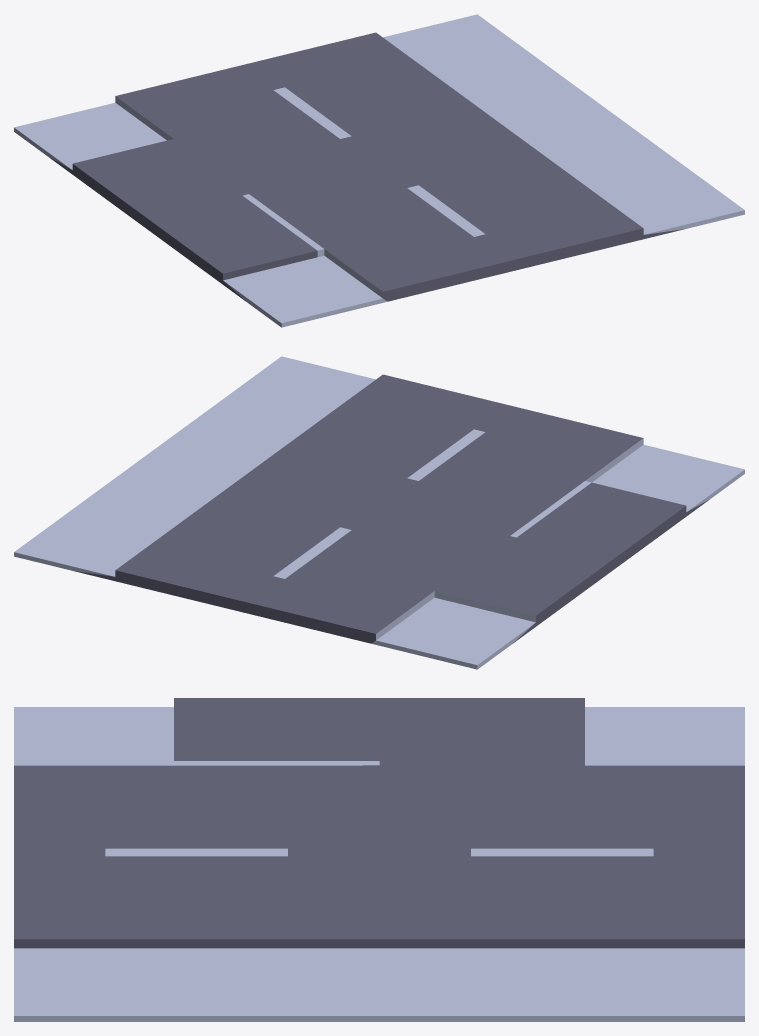
The model's file is road1.glb.
The picture shows the model from 3 angles, top to bottom: view 1: azimuth 30°, elevation 25°; view 2: azimuth 150°, elevation 25°; view 3: azimuth 270°, elevation 25°; orthographic projection. The views are drawn at different scales.
Visible parts, largest first — view 1: Cube.001; view 2: Cube.001; view 3: Cube.001.
Part boxes in pixels (x1=…): Cube.001: x1=14, y1=14, x2=744, y2=327; Cube.001: x1=14, y1=356, x2=744, y2=669; Cube.001: x1=14, y1=698, x2=744, y2=1021.
Size of the model in its own units: 2.2 by 0.05 by 2.2.
